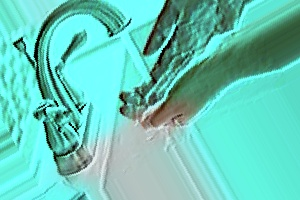washing hand: (13, 0, 299, 180)
